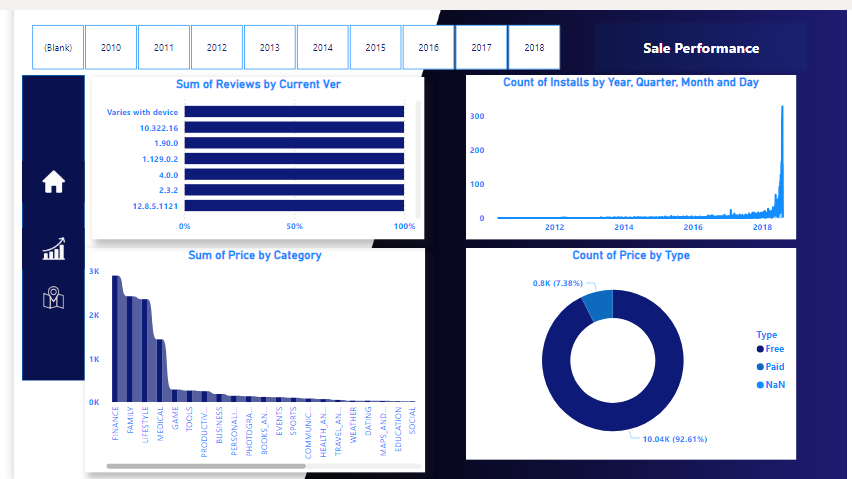

This screenshot's page, from the dashboard's own definition file:
{"tool":"powerbi","page":{"name":"Sale 2","canvas":[1280,720],"ordinal":2},"visuals":[{"type":"shape","box":[11.8,142.8,89,433.4],"z":0},{"type":"actionButton","box":[11.8,265.4,89,58.8],"z":1000},{"type":"actionButton","box":[11.8,359.5,89,58.8],"z":2000},{"type":"actionButton","box":[16.8,430,79,58.8],"z":3000},{"type":"slicer","fields":{"Values":["googleplaystore.Last Updated.Variation.Date Hierarchy.Year"]},"box":[0,25.5,798,78],"z":4000},{"type":"ribbonChart","fields":{"Category":["googleplaystore.Category"],"Y":["Sum(googleplaystore.Price)"]},"box":[101.1,389.1,481.7,318.3],"z":5000},{"type":"donutChart","fields":{"Category":["googleplaystore.Type"],"Y":["CountNonNull(googleplaystore.Price)"]},"box":[640,389.1,468.2,299.8],"z":6000},{"type":"stackedAreaChart","fields":{"Category":["googleplaystore.Last Updated.Variation.Date Hierarchy.Year","googleplaystore.Last Updated.Variation.Date Hierarchy.Quarter","googleplaystore.Last Updated.Variation.Date Hierarchy.Month","googleplaystore.Last Updated.Variation.Date Hierarchy.Day"],"Y":["CountNonNull(googleplaystore.Installs)"]},"box":[640,143,468.1,233.2],"z":7000},{"type":"hundredPercentStackedBarChart","fields":{"Category":["googleplaystore.Current Ver"],"Y":["Sum(googleplaystore.Reviews)"]},"box":[110.6,146.4,471.5,229.8],"z":8000},{"type":"shape","box":[823.8,69.8,301.3,68.1],"z":9000}]}

Visuals, with their boxes on the page's 1280x720 design canvas (x1, y1, x2, y2). These are canvas units, not pixel positions in the 852x479 screenshot, which may show the page scaled, cropped or inside an application window:
shape: <region>12, 143, 101, 576</region>
actionButton: <region>12, 265, 101, 324</region>
actionButton: <region>12, 360, 101, 418</region>
actionButton: <region>17, 430, 96, 489</region>
slicer - googleplaystore.Last Updated.Variation.Date Hierarchy.Year: <region>0, 26, 798, 104</region>
ribbonChart - googleplaystore.Category x Sum(googleplaystore.Price): <region>101, 389, 583, 707</region>
donutChart - googleplaystore.Type x CountNonNull(googleplaystore.Price): <region>640, 389, 1108, 689</region>
stackedAreaChart - googleplaystore.Last Updated.Variation.Date Hierarchy.Year x googleplaystore.Last Updated.Variation.Date Hierarchy.Quarter: <region>640, 143, 1108, 376</region>
hundredPercentStackedBarChart - googleplaystore.Current Ver x Sum(googleplaystore.Reviews): <region>111, 146, 582, 376</region>
shape: <region>824, 70, 1125, 138</region>
